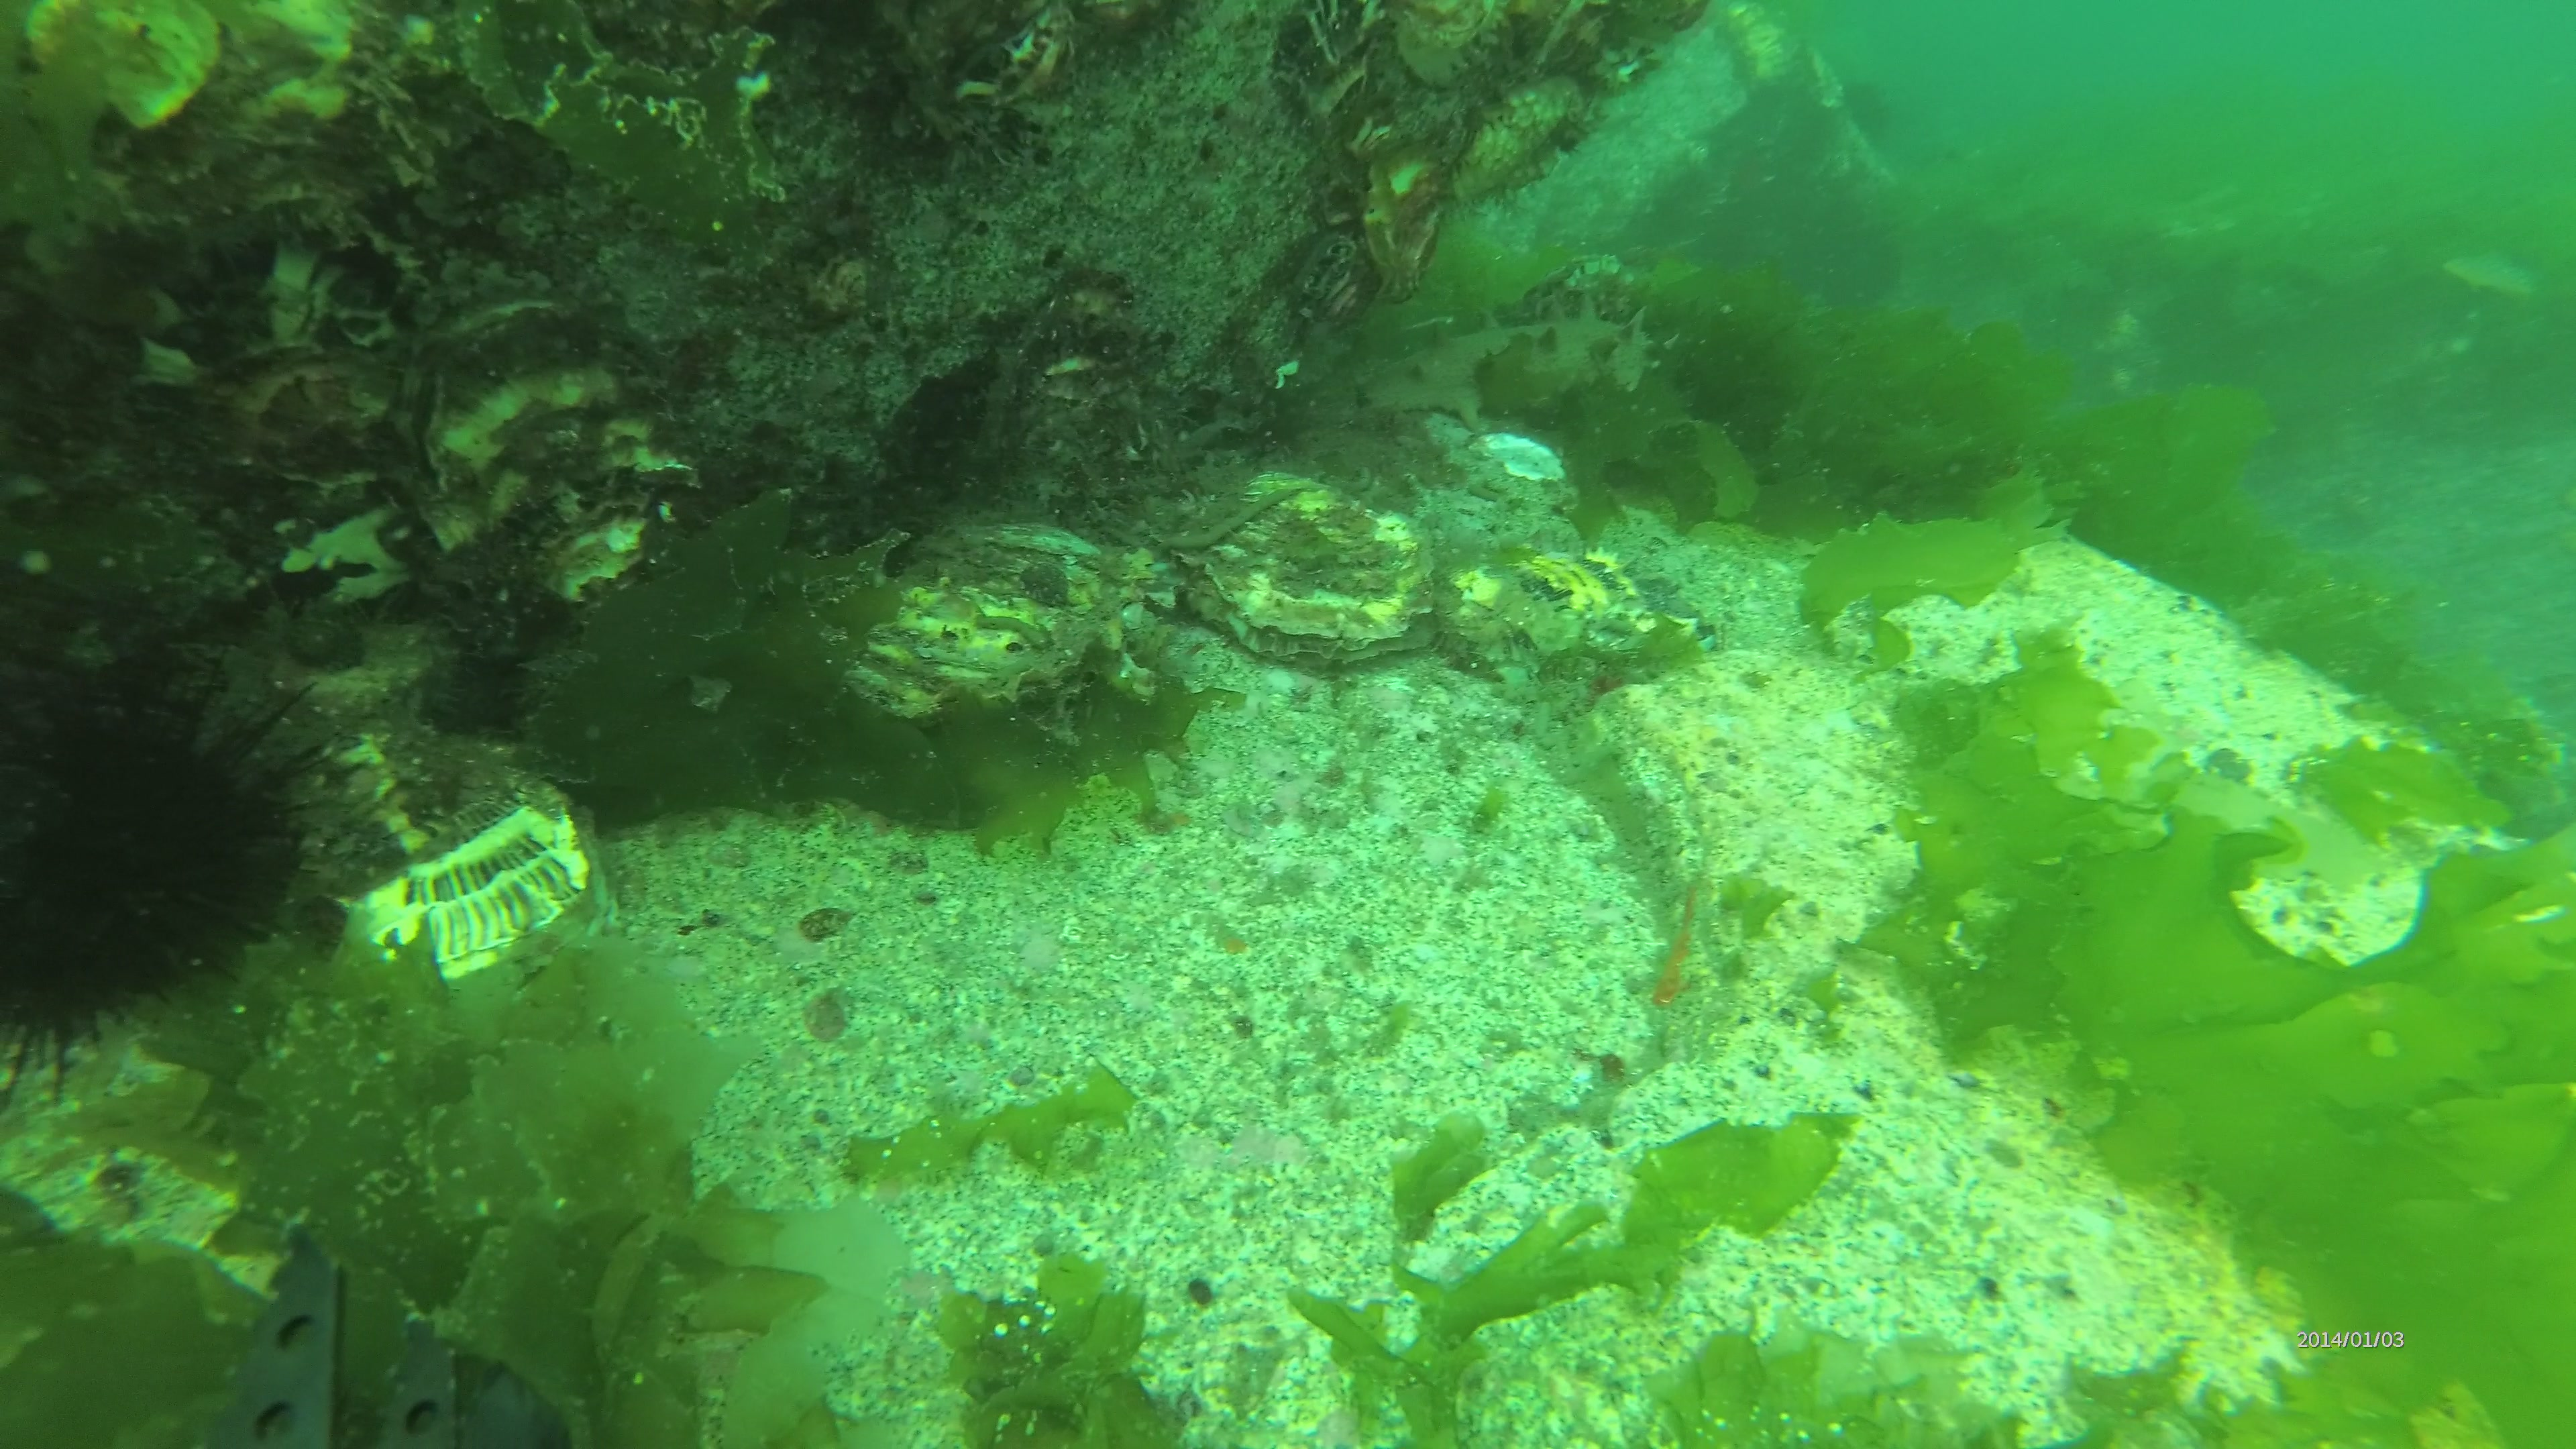echinus: (5, 630, 345, 1093)
holothurian: (1341, 292, 1668, 428)
